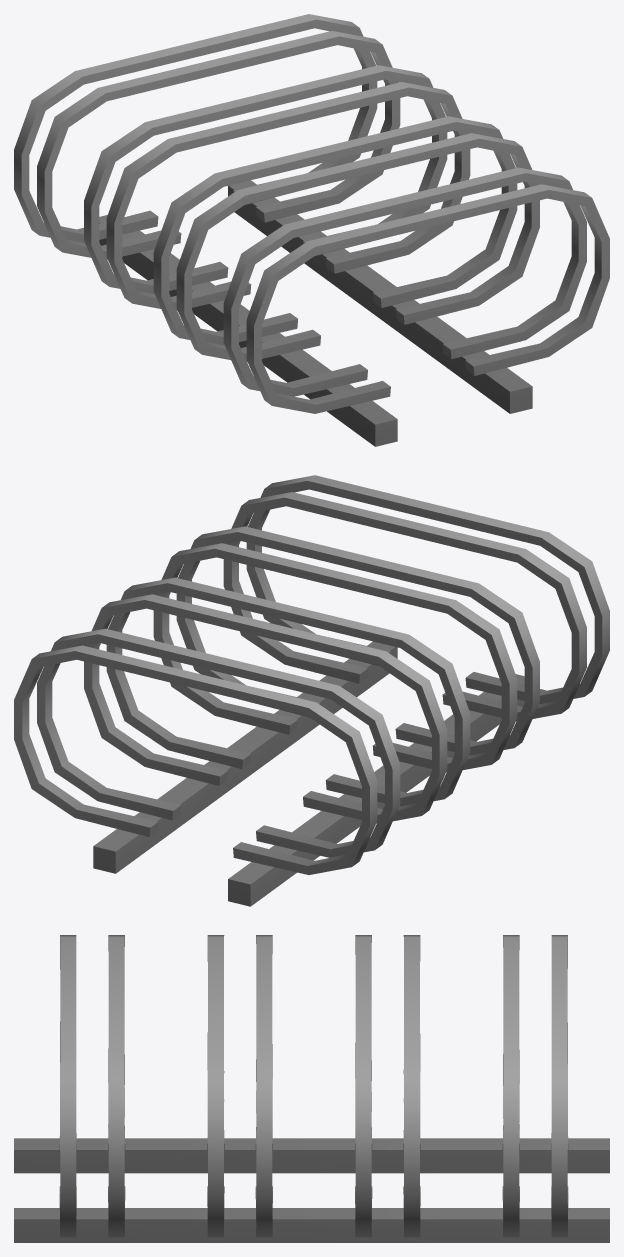
Rendered from BikeRack.obj.
The picture shows the model from 3 angles, top to bottom: view 1: azimuth 30°, elevation 25°; view 2: azimuth 150°, elevation 25°; view 3: azimuth 270°, elevation 25°; orthographic projection. The views are drawn at different scales.
Visible parts, largest first — view 1: bike_rack; view 2: bike_rack; view 3: bike_rack.
Part boxes in pixels (x1,y1,x2,y2): bike_rack: (14,14,609,446); bike_rack: (14,475,609,906); bike_rack: (14,935,609,1242).
Bounding box in the file's own units: 2.62 × 1.36 × 3.59.
Materials: 1 (1 with a texture image).
